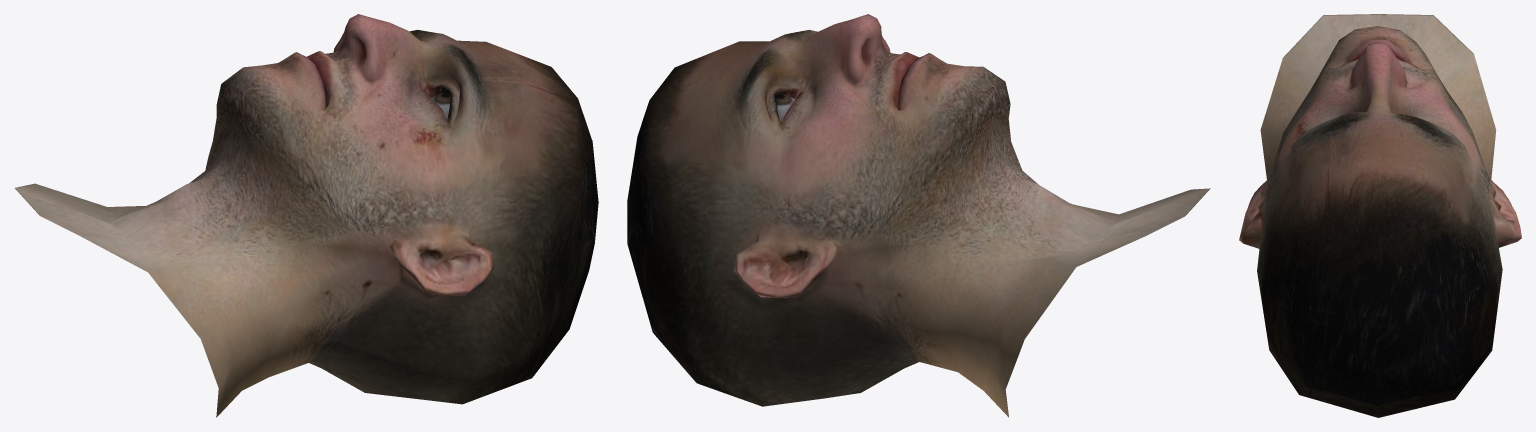
File: head_russian_winter_volsky.glb
3 renders of one model, left to right at view 1: azimuth 30°, elevation 25°; view 2: azimuth 150°, elevation 25°; view 3: azimuth 270°, elevation 25°, orthographic. The views are drawn at different scales.
Size of the model in its own units: 14.52 by 10.15 by 7.83.
1 material, 1 textured.
